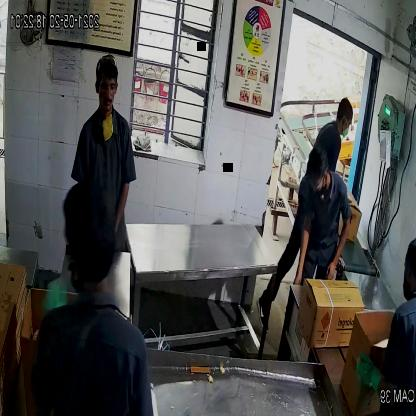no_goggles: (94, 77, 120, 96)
